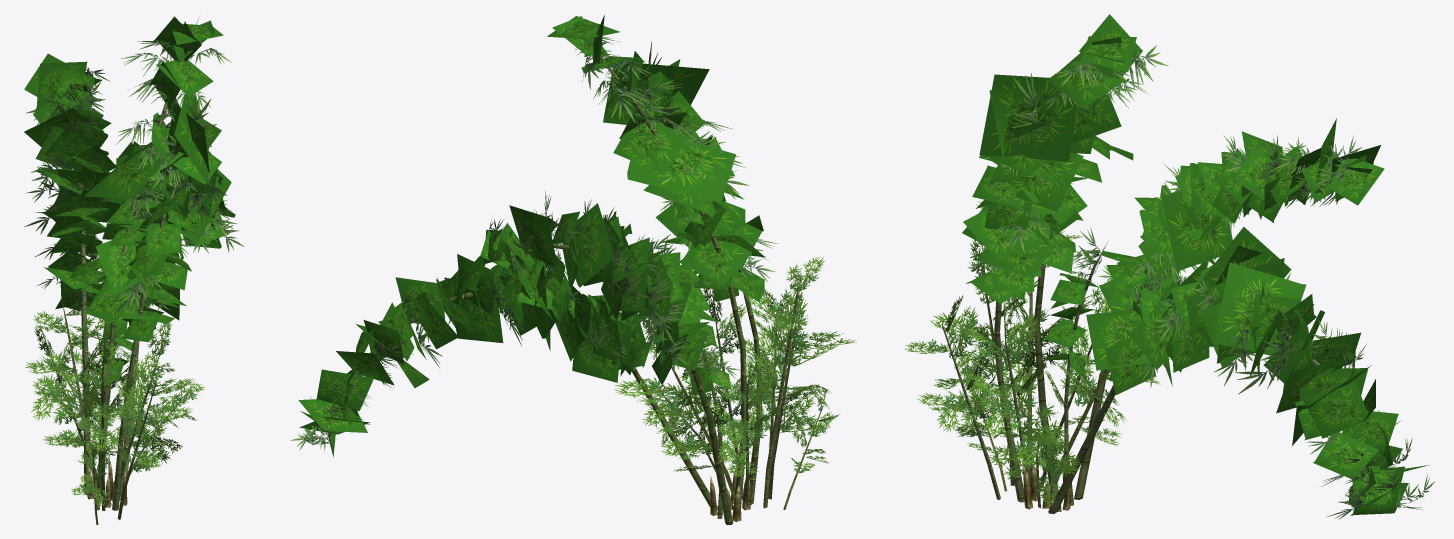
File: zhuzi_65.FBX
The picture shows the model from 3 angles, left to right: view 1: azimuth 30°, elevation 25°; view 2: azimuth 150°, elevation 25°; view 3: azimuth 270°, elevation 25°; orthographic projection. The views are drawn at different scales.
Visible parts, largest first — view 1: zhuzi_65; view 2: zhuzi_65; view 3: zhuzi_65.
Boxes of the visible parts, box(x1,y1,x2,y2) form: zhuzi_65: box(24, 16, 244, 524); zhuzi_65: box(290, 15, 856, 524); zhuzi_65: box(904, 14, 1435, 519).
Bounding box in the file's own units: 1222 × 1453 × 1303.
